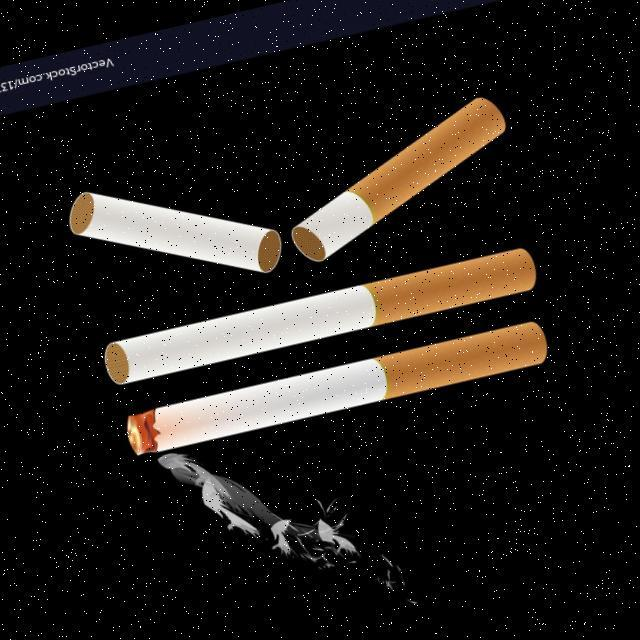cigarette: (119, 308, 555, 461)
